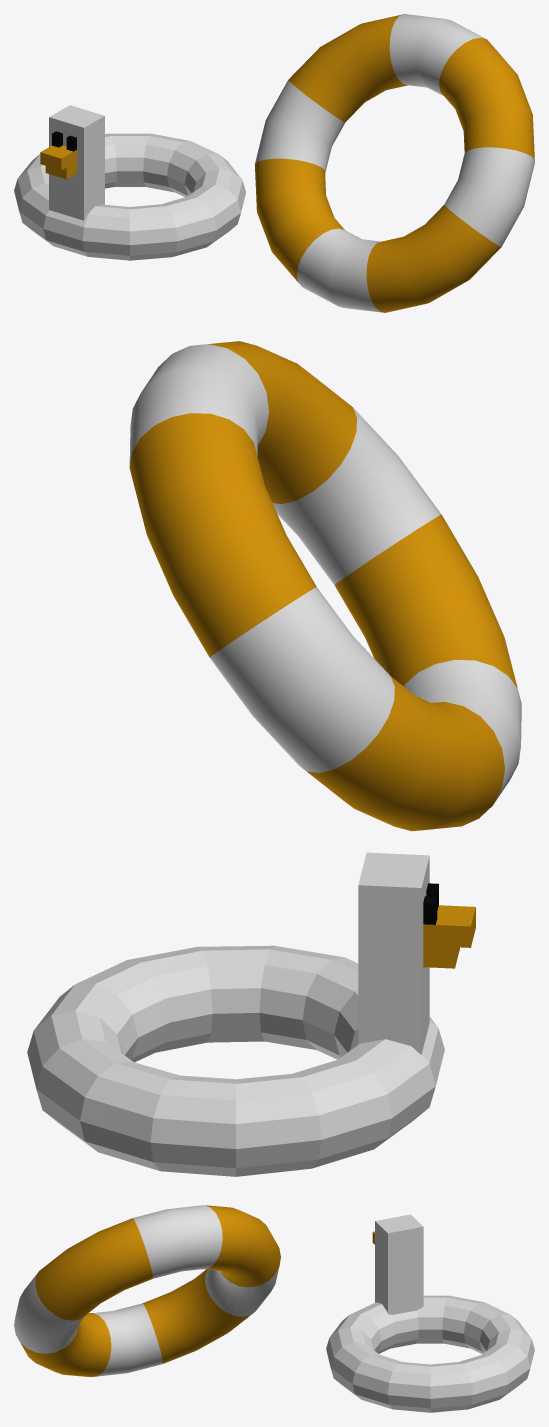
Rendered from pato.fbx.
3 renders of one model, top to bottom at view 1: azimuth 30°, elevation 25°; view 2: azimuth 150°, elevation 25°; view 3: azimuth 270°, elevation 25°, orthographic. The views are drawn at different scales.
Parts seen in each view (by area): view 1: pTorus1, pato:pCube2; view 2: pTorus1, pato:pCube2; view 3: pTorus1, pato:pCube2.
Part boxes in pixels (box(x1,y1,x2,y2)): pTorus1: box(254, 14, 534, 312); pato:pCube2: box(14, 105, 245, 260); pTorus1: box(129, 341, 521, 831); pato:pCube2: box(27, 852, 475, 1176); pTorus1: box(14, 1205, 280, 1377); pato:pCube2: box(326, 1214, 534, 1412).
Bounding box in the file's own units: 1.32 × 1.05 × 2.08.
